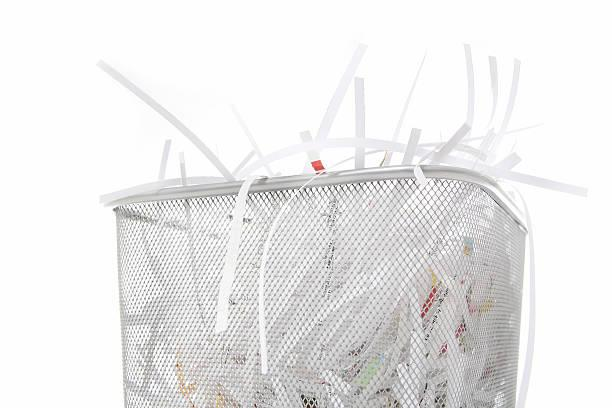paper: (85, 44, 547, 408)
